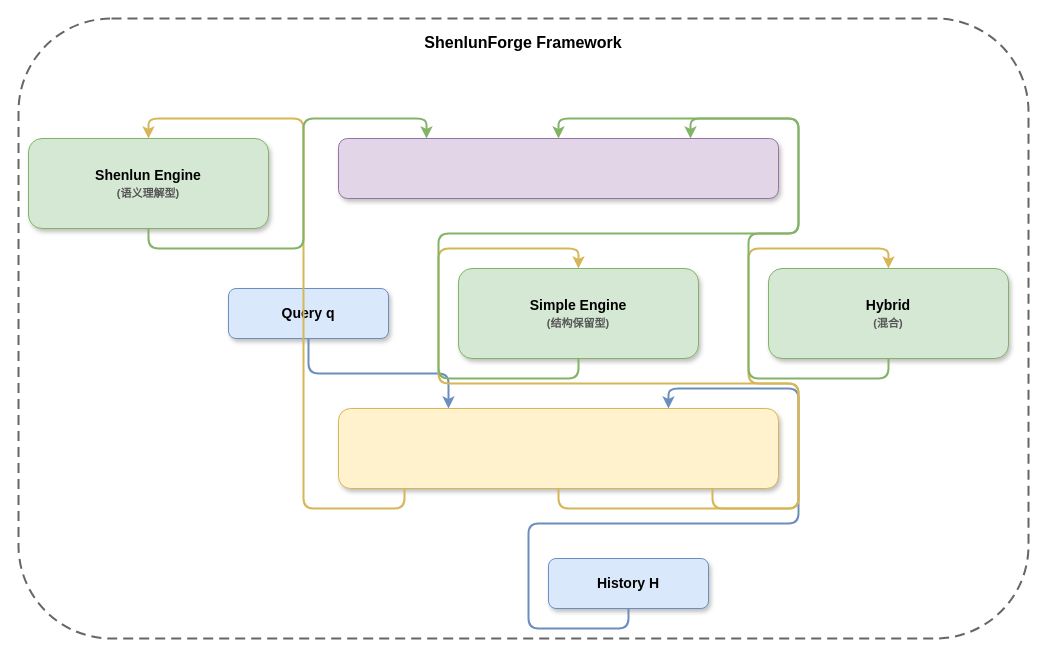
The diagram is 1046 pixels wide and 656 high, and some of its shapes have lost their labels. The centre of each missing label's shape, as x and y in pixels:
"Adaptive Router C(q), F(H) → π" goes at pixel 559 450.
"Compressed Context H'" goes at pixel 559 170.
